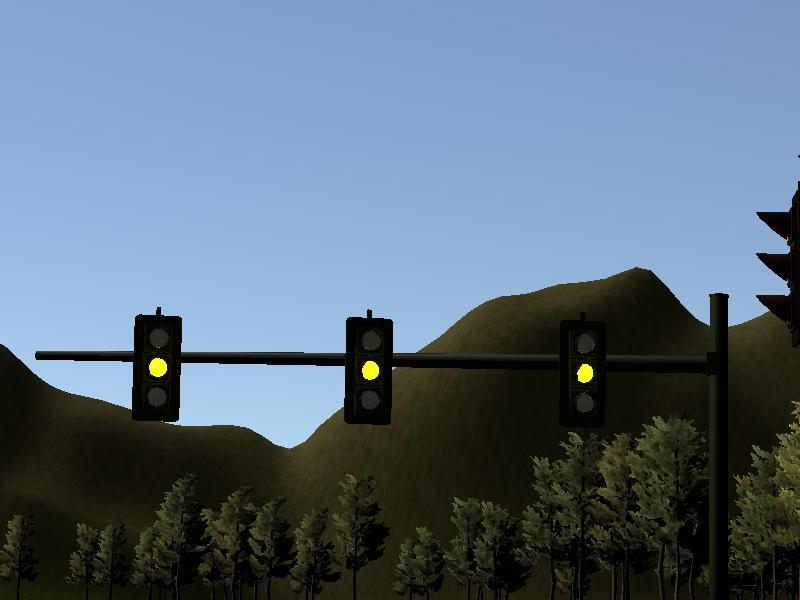Yellow: (558, 319, 605, 425), (345, 318, 392, 424), (133, 315, 180, 421)
